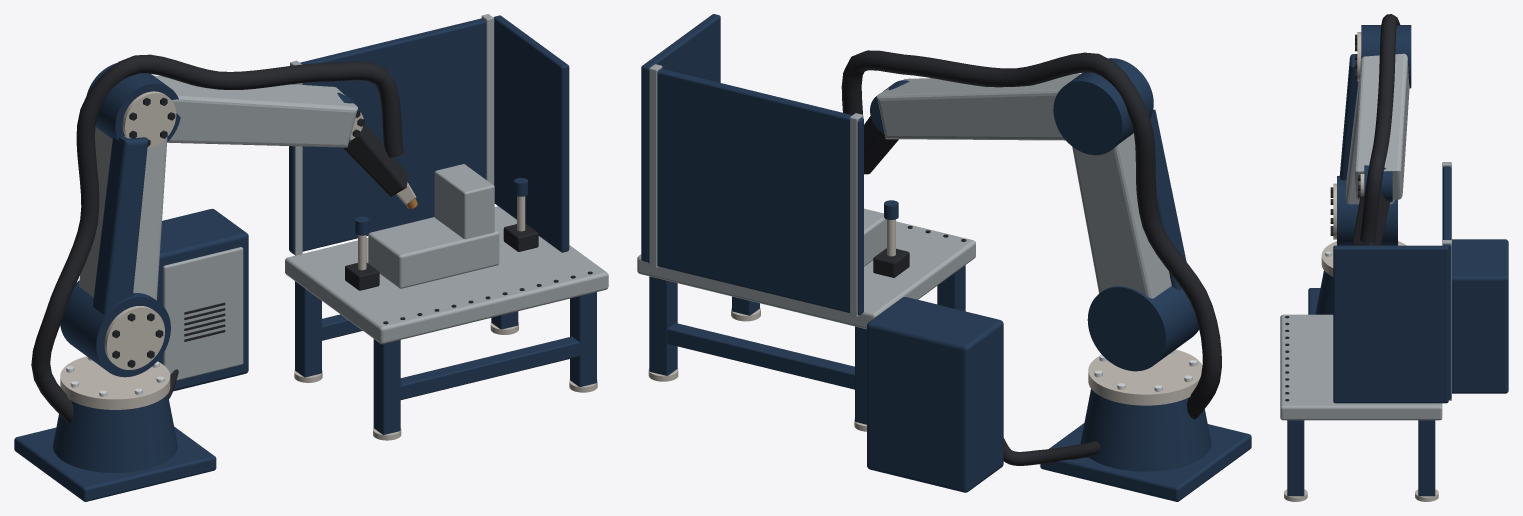
The model's file is robots-30.glb.
3 renders of one model, left to right at view 1: azimuth 30°, elevation 25°; view 2: azimuth 150°, elevation 25°; view 3: azimuth 270°, elevation 25°, orthographic. The views are drawn at different scales.
Visible parts, largest first — view 1: screens, bench, arm, pedestal, power, loom, joints, parts, clamps, torch; view 2: screens, power, arm, bench, pedestal, loom, joints, power-cables, clamps, parts, torch; view 3: screens, bench, power, arm, joints, loom, pedestal, torch.
Part boxes in pixels (x1,y1,x2,y2): screens: (289,14,569,255); bench: (285,206,608,440); arm: (79,75,357,314); pedestal: (14,356,216,501); power: (157,208,248,391); loom: (31,54,403,423); joints: (60,63,365,377); parts: (368,164,499,288); clamps: (345,178,538,290); torch: (343,123,407,196); screens: (641,14,863,317); power: (867,297,1003,492); arm: (877,73,1186,298); bench: (637,221,975,431); pedestal: (1040,349,1251,501); loom: (841,50,1221,419); joints: (870,58,1199,371); power-cables: (1003,438,1100,465); clamps: (873,200,909,277); parts: (864,208,886,266); torch: (864,116,898,174); screens: (1333,162,1451,403); bench: (1280,314,1442,501); power: (1452,239,1508,393); arm: (1339,53,1409,204); joints: (1330,25,1411,245); loom: (1360,14,1400,242); pedestal: (1308,241,1406,314); torch: (1352,192,1389,245).
Bounding box in the file's own units: 3.2 × 2.28 × 1.46.
